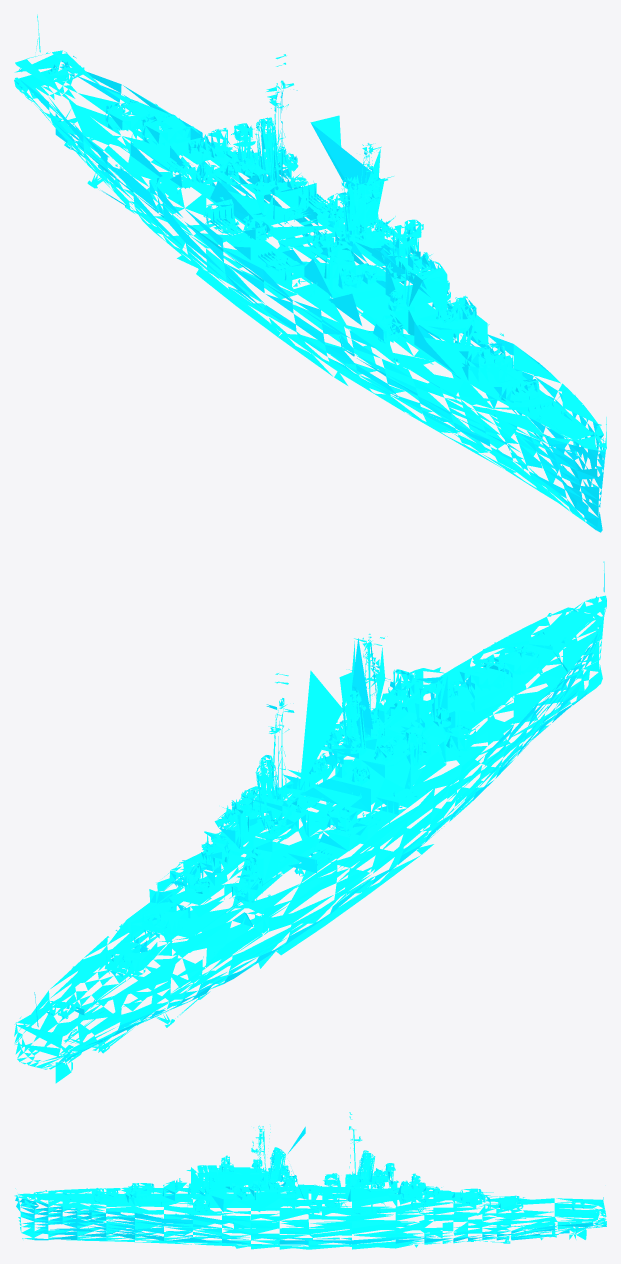
The model's file is Pirate_Neptune.glb.
3 renders of one model, top to bottom at view 1: azimuth 30°, elevation 25°; view 2: azimuth 150°, elevation 25°; view 3: azimuth 270°, elevation 25°, orthographic. The views are drawn at different scales.
Bounding box in the file's own units: 1.6 × 3.17 × 13.43.
